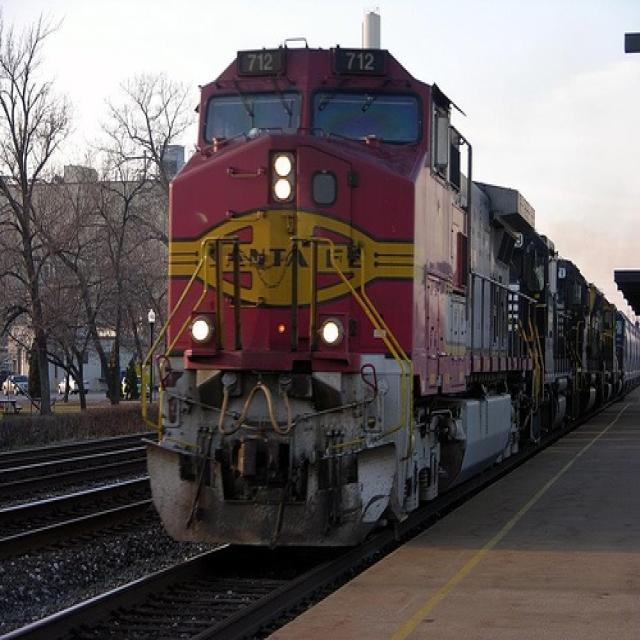train: (137, 44, 635, 552)
